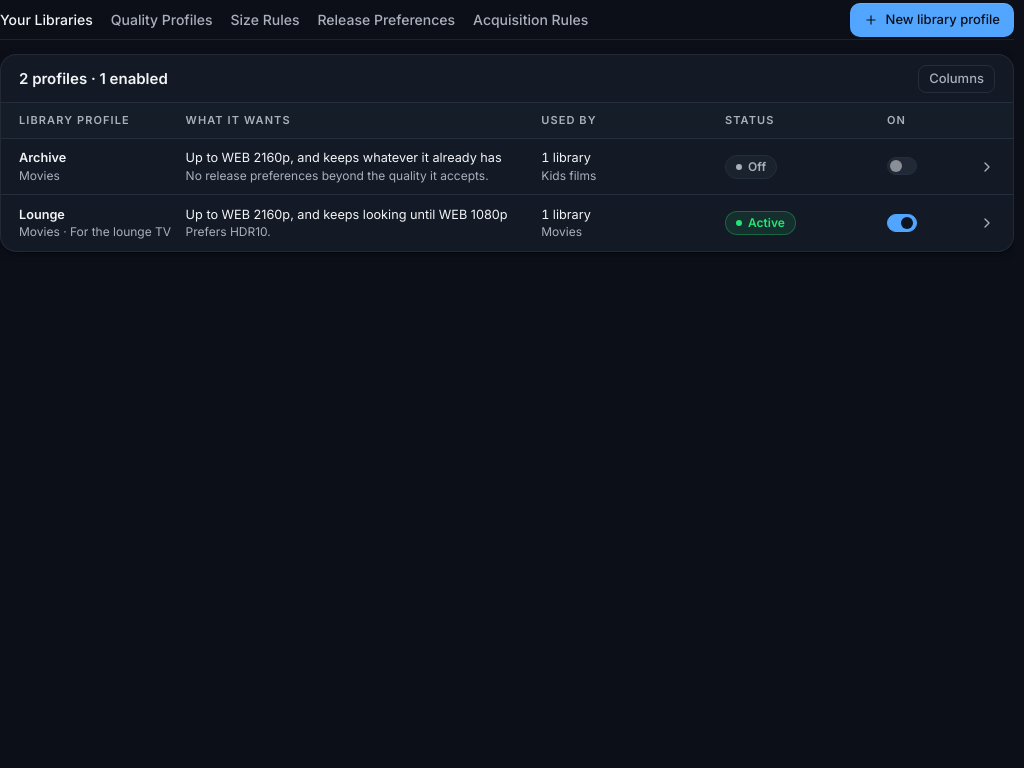
Test: Library Profile drawer › creates with POST, then attaches each switched-on library with PUT media-plan, and says it was created
Click the button "New library profile" at (932, 20), box left=850, top=2, right=1014, bottom=36
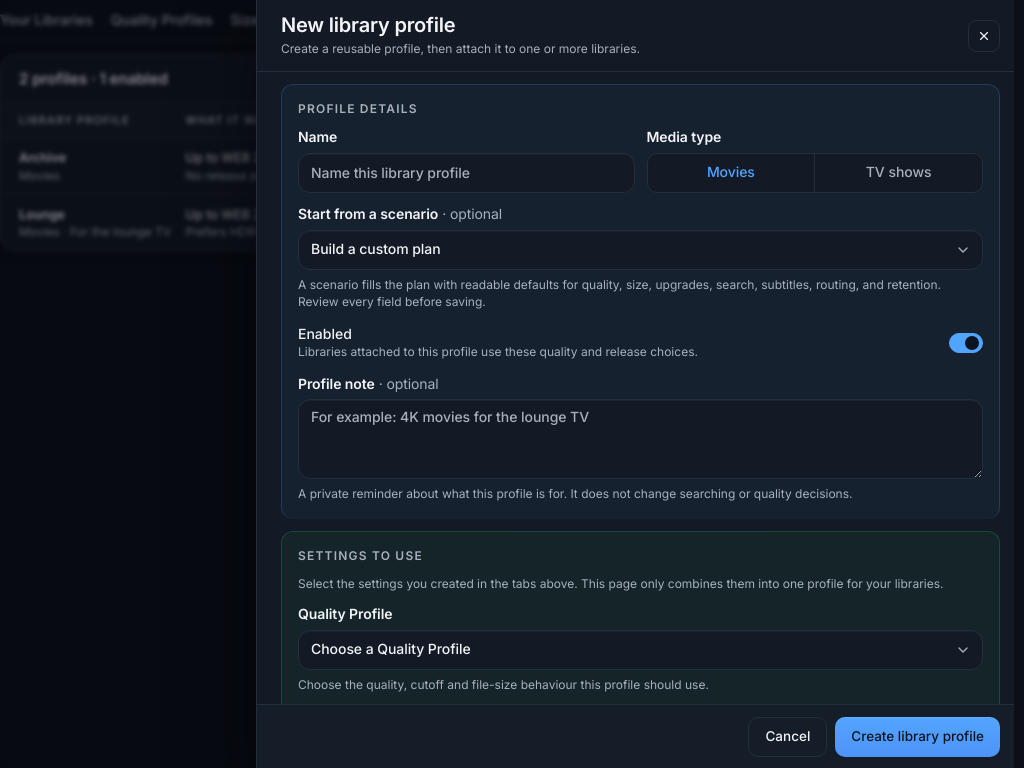
Type "Fresh" into the field with placeholder "Name this library profile" at (466, 173), box left=298, top=153, right=634, bottom=193
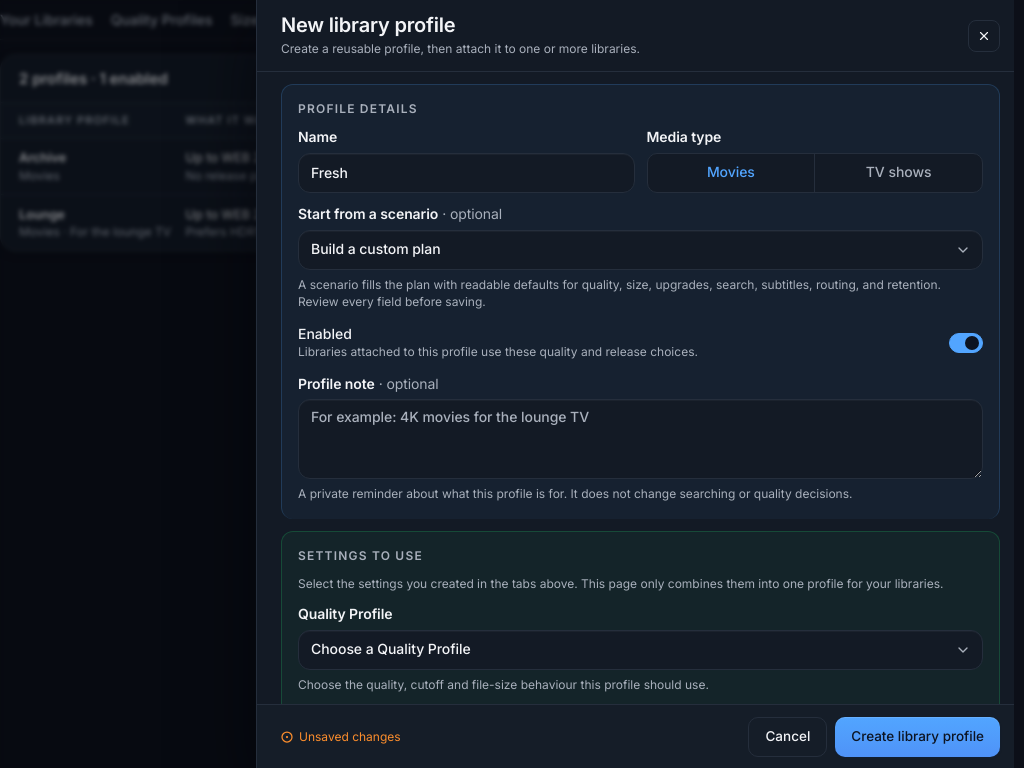
Select "Films 4K" in the dropdown labelled "Quality Profile" at (640, 650), box left=298, top=630, right=983, bottom=670
(page scrolled)
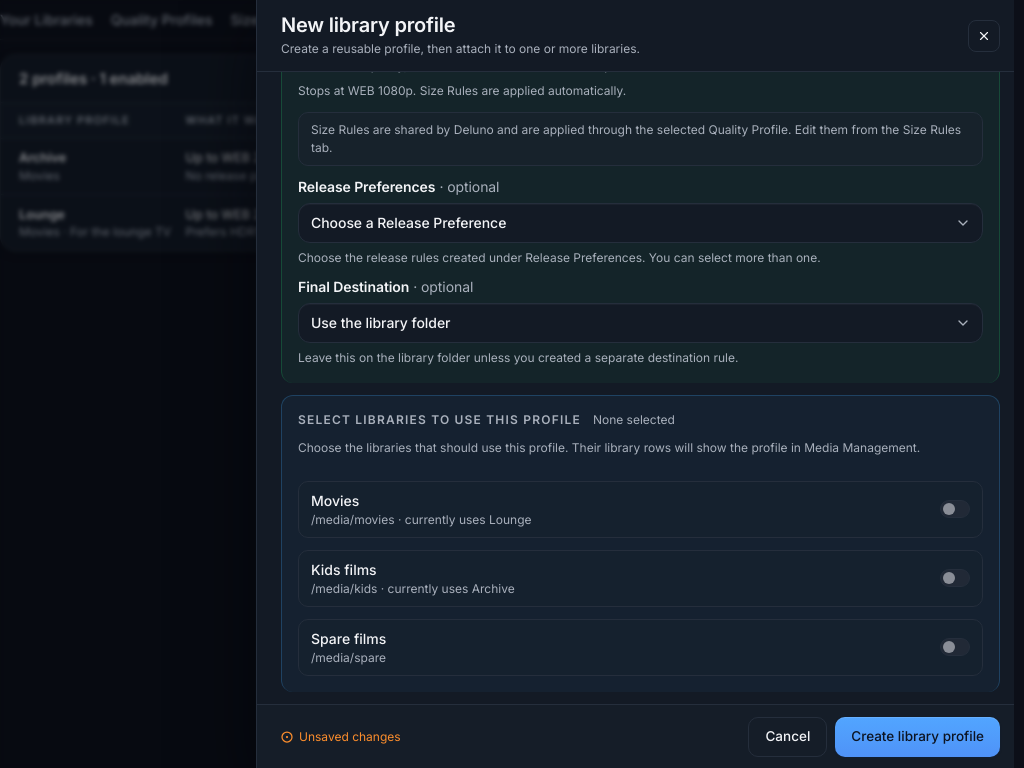
Click the switch named "Spare films" in the row of "Spare films" at (955, 647), box left=940, top=638, right=970, bottom=656
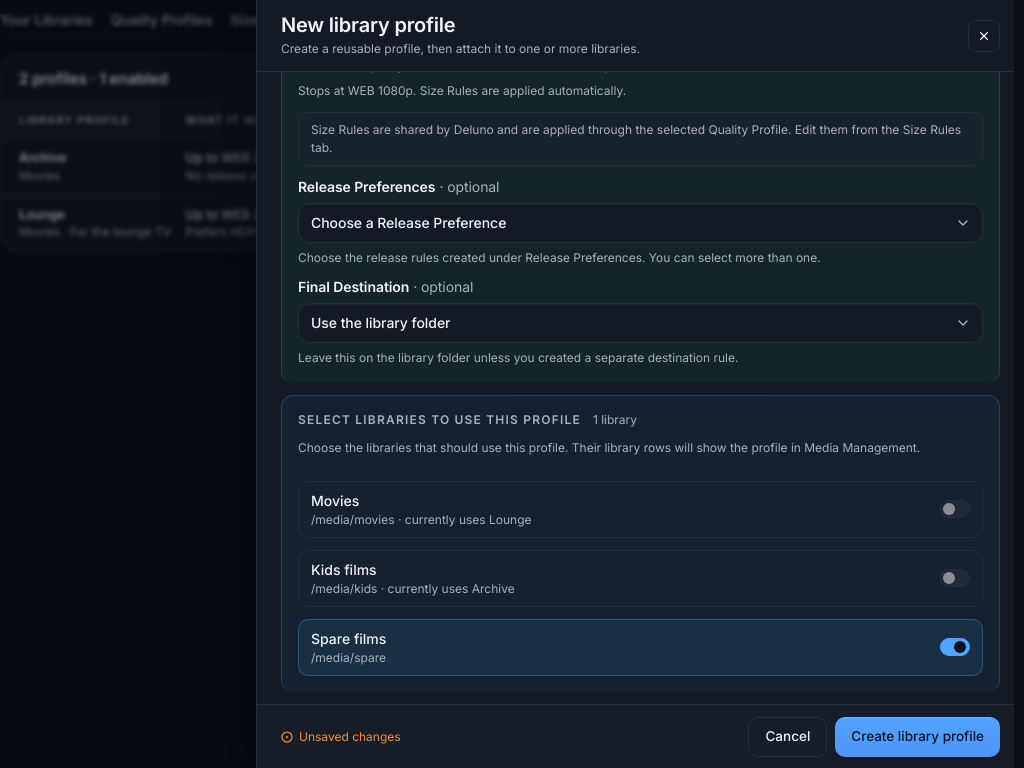
Click the button "Create library profile" at (918, 736), box left=835, top=716, right=1000, bottom=756
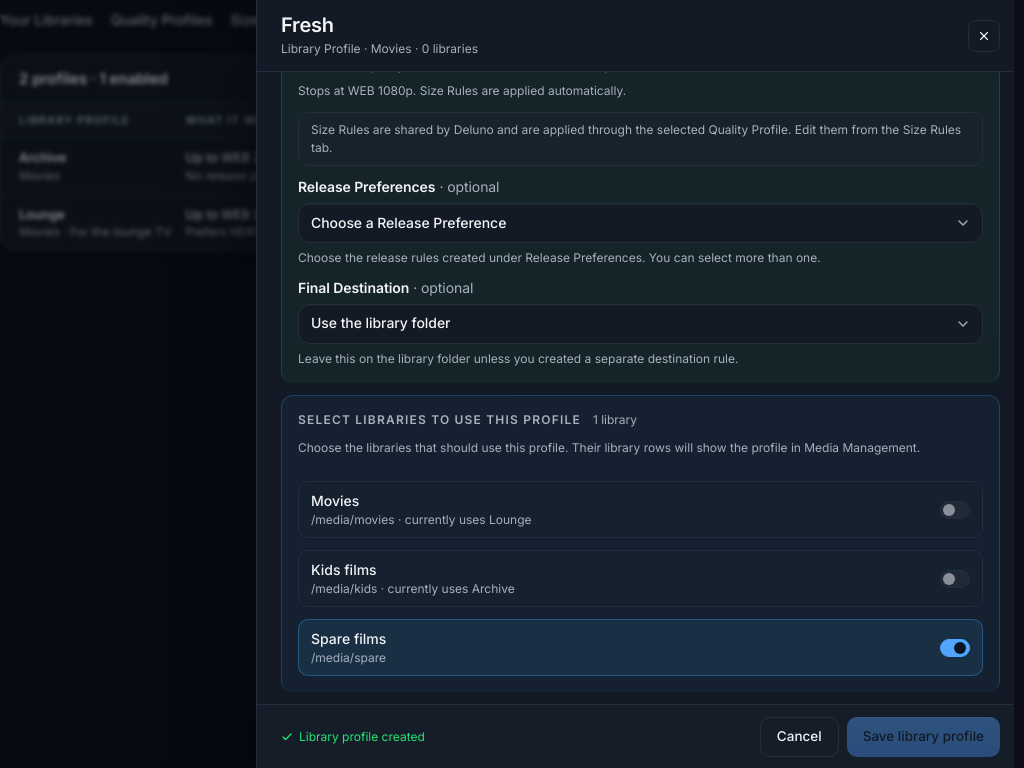
Result: the text "Library profile created" is shown at left=299, top=728, right=425, bottom=746
Result: the button "Save library profile" is shown at left=847, top=716, right=1000, bottom=756
